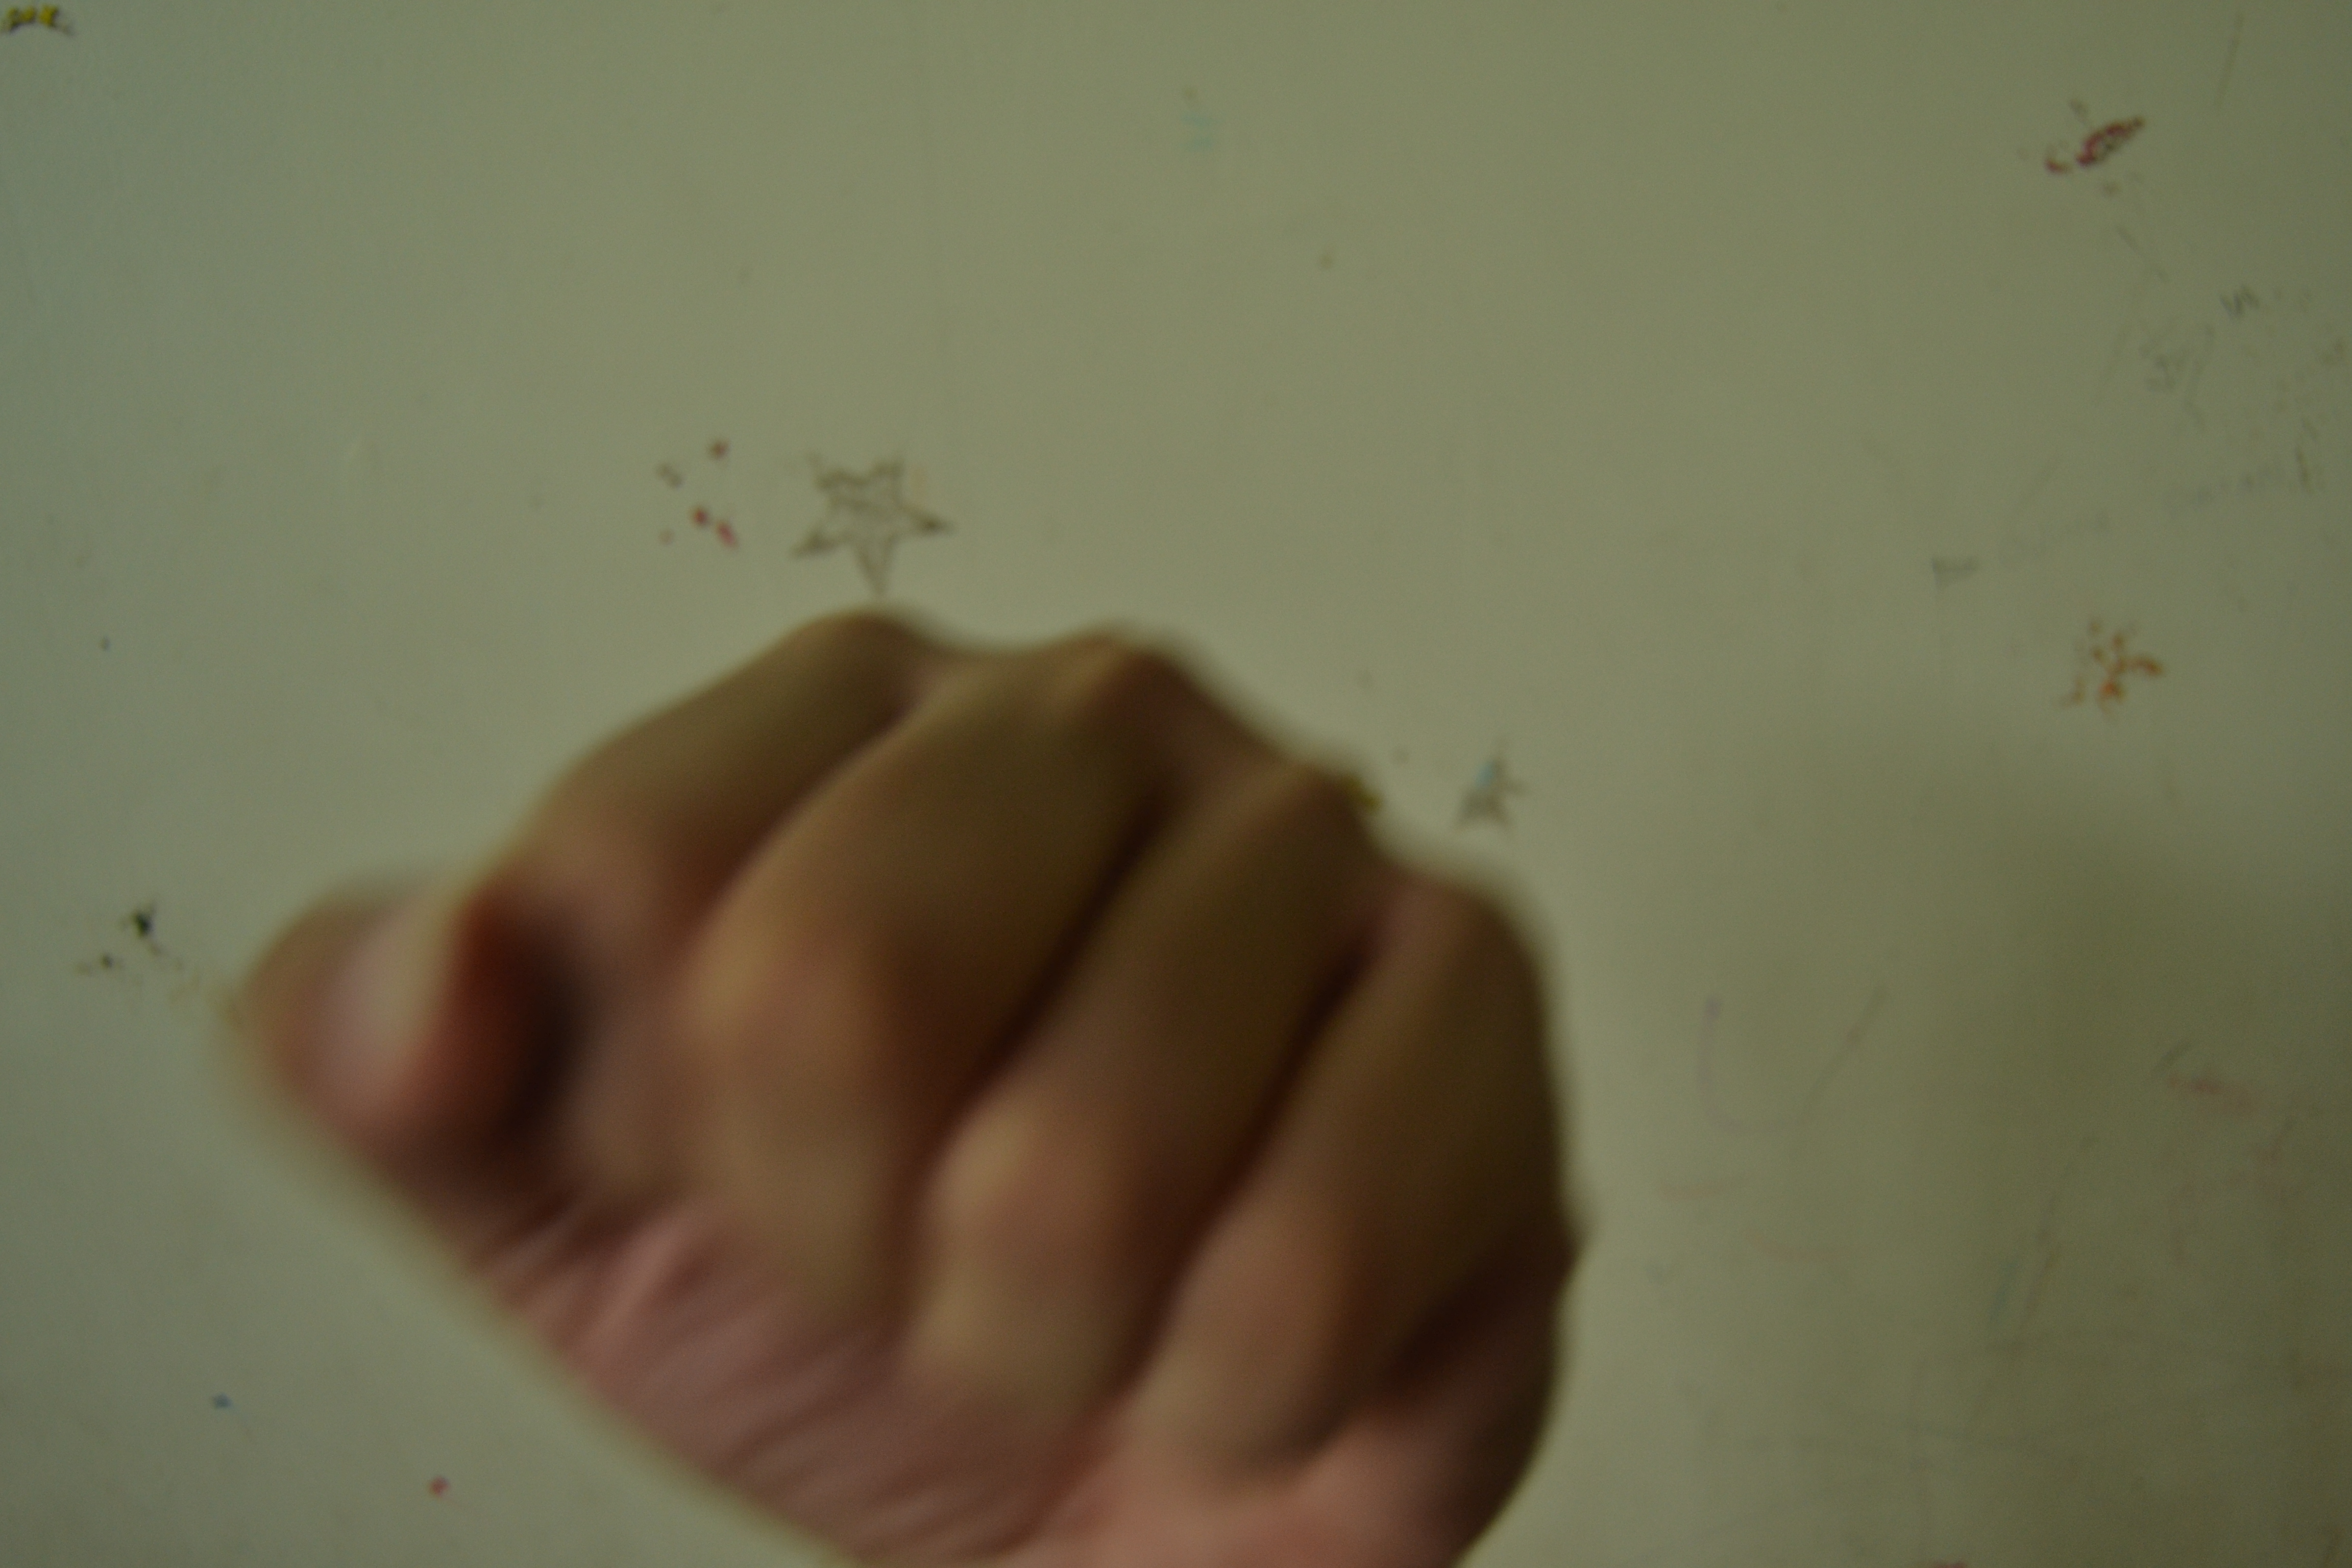click: (201, 558, 1682, 1568)
